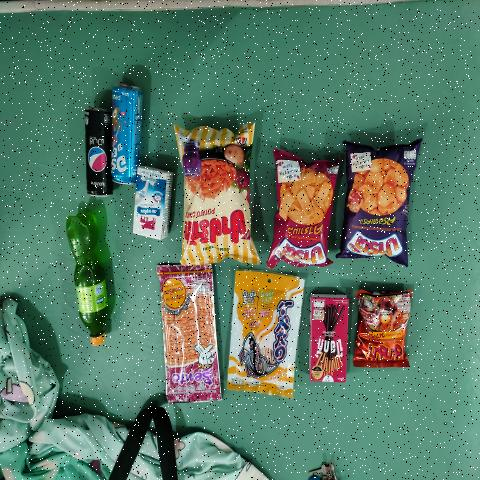bento_red: (168, 271, 210, 402)
fanta_green: (66, 208, 110, 358)
mama: (360, 298, 402, 364)
paprika: (186, 128, 248, 253)
party_purple: (347, 150, 407, 260)
party_red: (272, 162, 334, 262)
pepsi_black: (84, 105, 109, 200)
pepsi_blue: (113, 87, 135, 184)
pokki: (312, 297, 347, 383)
taro_yellow: (237, 273, 294, 393)
thai_denmark: (134, 176, 168, 234)
